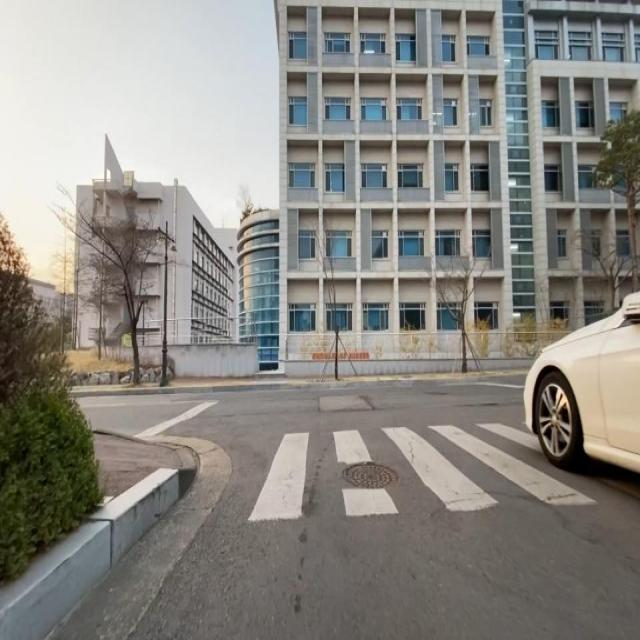sidewalk: (73, 369, 529, 391), (93, 433, 200, 504)
